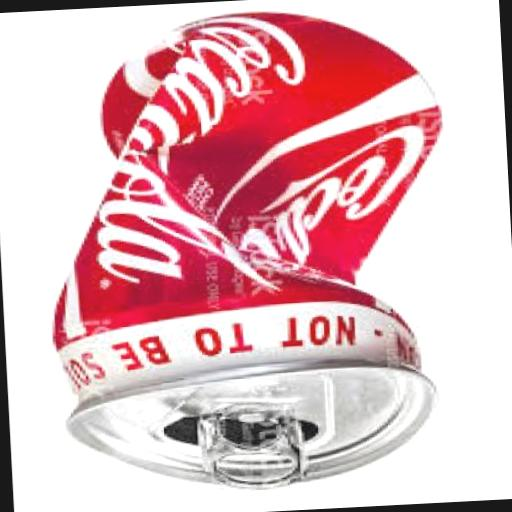metal: (34, 0, 467, 499), (198, 404, 312, 491)
